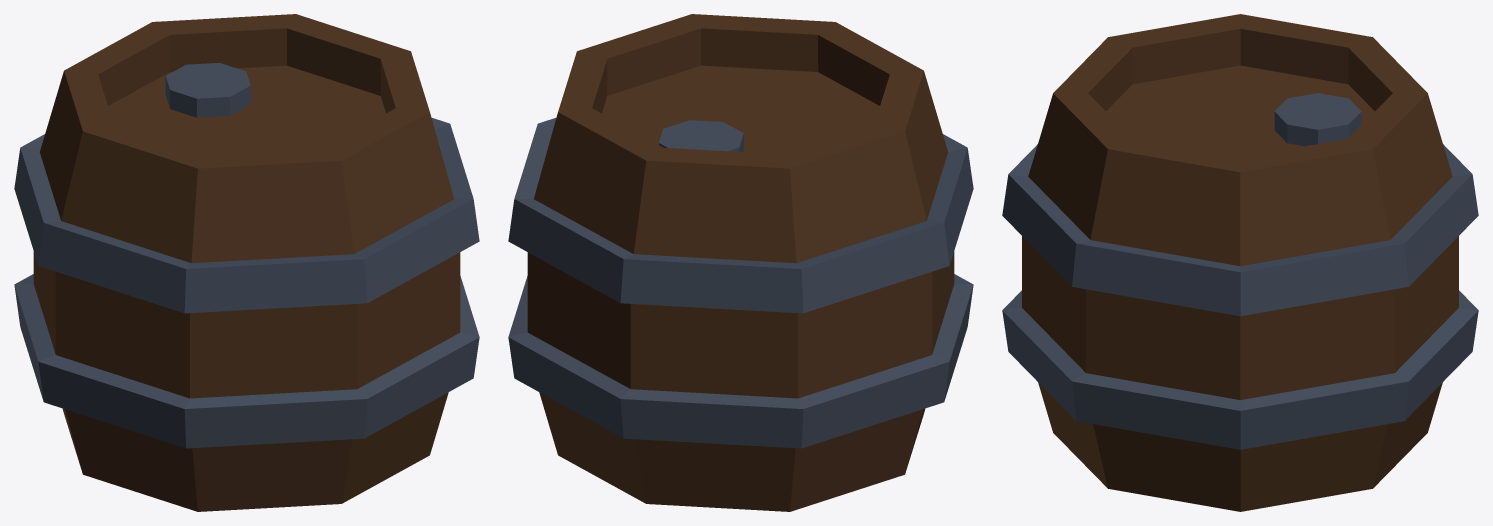
Rendered from barrel_a.glb.
The picture shows the model from 3 angles, left to right: view 1: azimuth 30°, elevation 25°; view 2: azimuth 150°, elevation 25°; view 3: azimuth 270°, elevation 25°; orthographic projection.
Parts seen in each view (by area): view 1: Cylinder; view 2: Cylinder; view 3: Cylinder.
Part boxes in pixels (x1=…): Cylinder: x1=14, y1=14, x2=479, y2=511; Cylinder: x1=508, y1=14, x2=973, y2=511; Cylinder: x1=1002, y1=14, x2=1478, y2=511.
Bounding box in the file's own units: 1.88 × 1.48 × 1.88.
